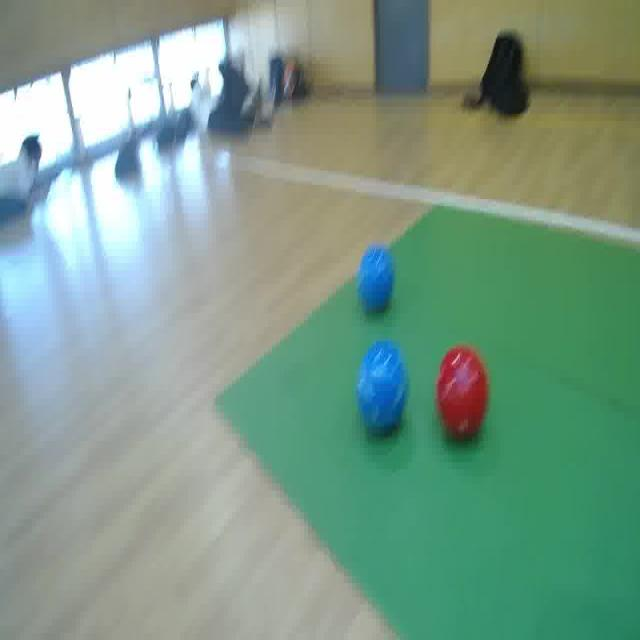blue_ball: (354, 340, 411, 435), (355, 242, 396, 316)
red_ball: (432, 338, 492, 444)
